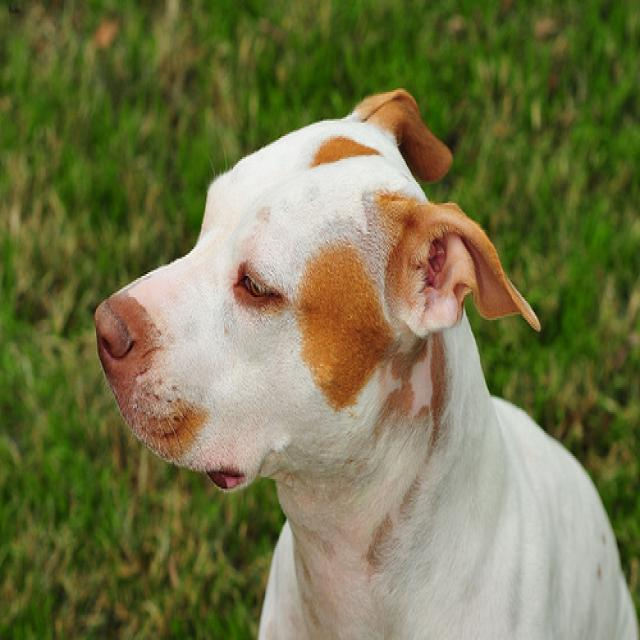dog-american_pit_bull_terrier: (87, 80, 637, 636)
